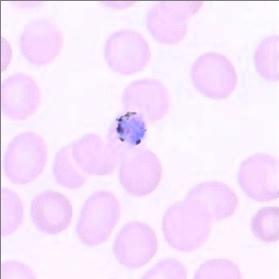Infected: (108, 111, 147, 149)
Uninfected: (161, 201, 211, 251), (3, 131, 47, 185), (76, 191, 118, 246), (189, 52, 236, 99), (186, 180, 238, 221), (123, 77, 169, 123), (113, 221, 158, 268), (236, 153, 279, 202), (19, 18, 63, 65), (105, 29, 149, 76), (118, 149, 162, 196), (72, 133, 117, 177), (0, 73, 40, 121), (29, 192, 73, 233), (146, 2, 187, 44), (52, 145, 89, 188), (251, 205, 279, 242)
